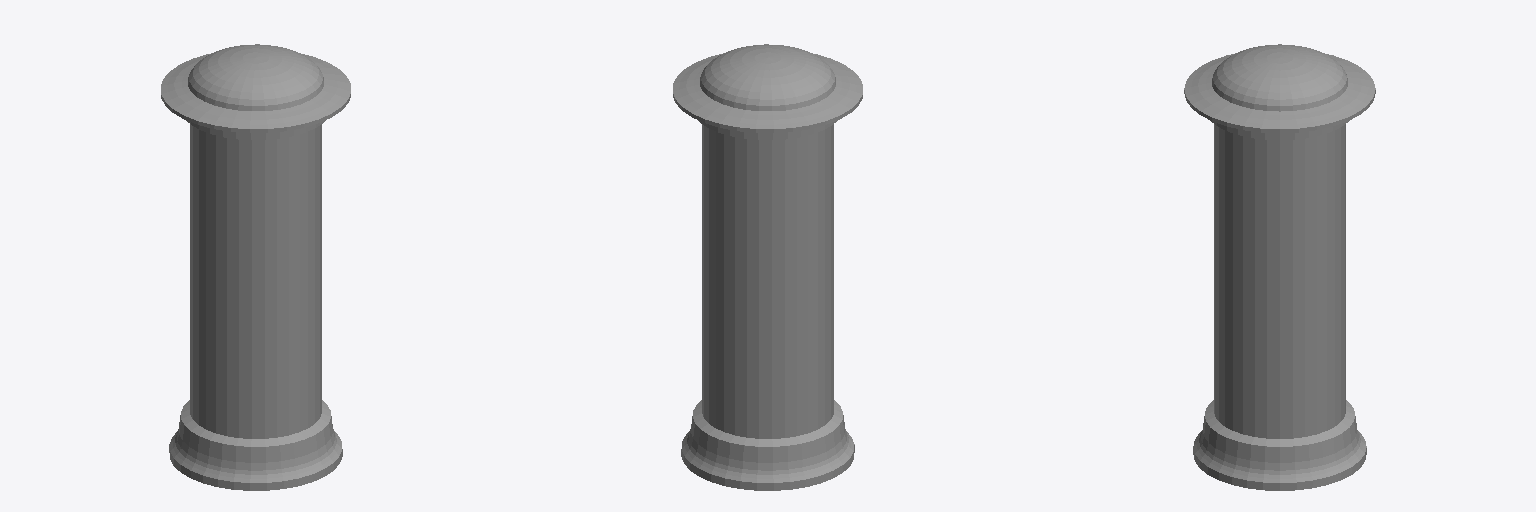
Rendered from ad_column.obj.
The picture shows the model from 3 angles: view 1: azimuth 30°, elevation 25°; view 2: azimuth 150°, elevation 25°; view 3: azimuth 270°, elevation 25°; orthographic projection.
Visible parts, largest first — view 1: Circle.002_Circle.003; view 2: Circle.002_Circle.003; view 3: Circle.002_Circle.003.
Boxes of the visible parts, x1,y1,x2,y2 form: Circle.002_Circle.003: [161, 44, 350, 490]; Circle.002_Circle.003: [673, 44, 862, 490]; Circle.002_Circle.003: [1184, 44, 1375, 490].
Bounding box in the file's own units: 4.41 × 10.1 × 4.41.